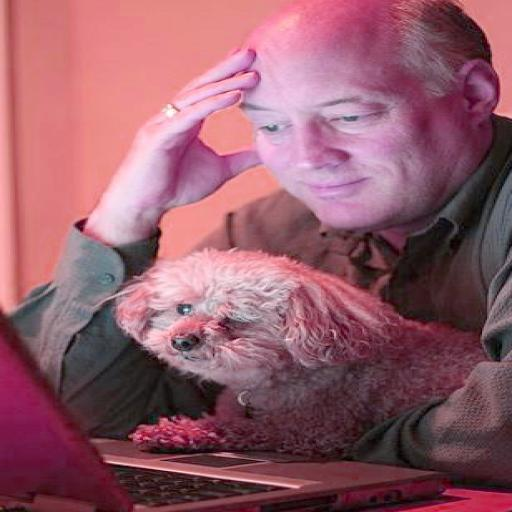dog_face: (113, 252, 352, 386)
